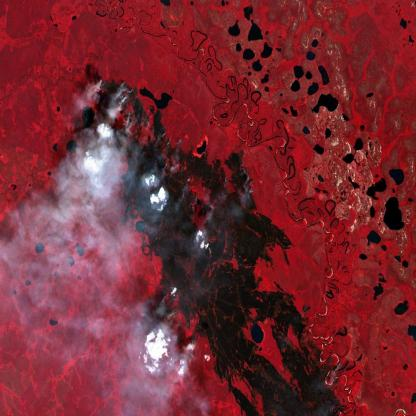fire: (90, 70, 199, 174), (154, 270, 214, 361)
